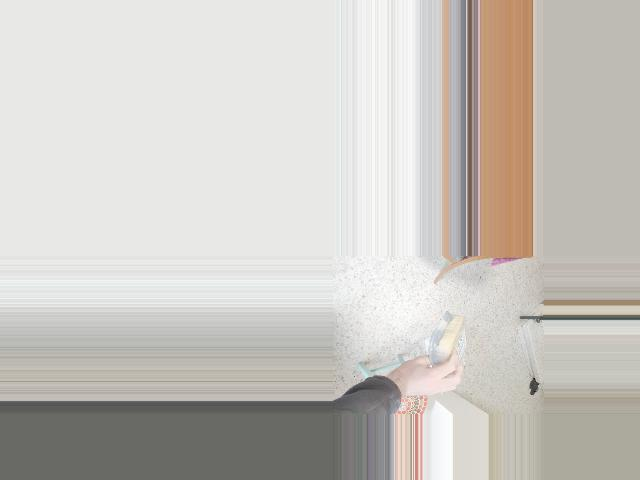cheese: (434, 310, 467, 376)
